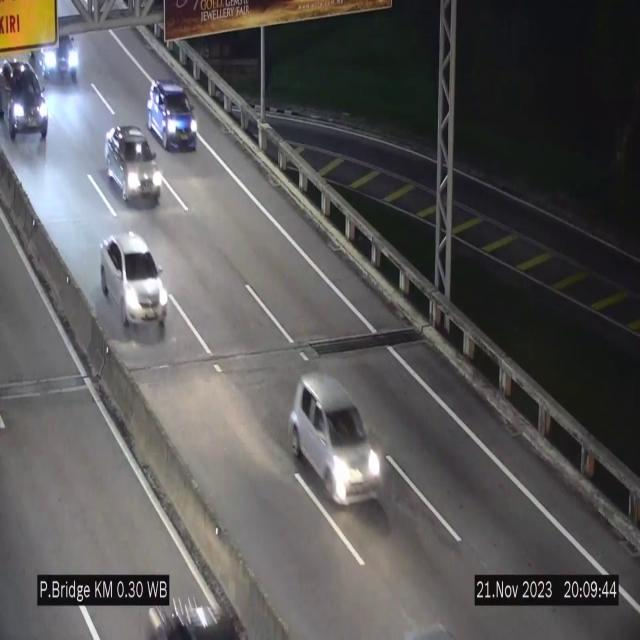Car: (289, 373, 391, 503), (101, 232, 167, 335), (0, 66, 54, 148), (105, 126, 161, 205), (147, 79, 197, 149), (32, 16, 80, 83)
